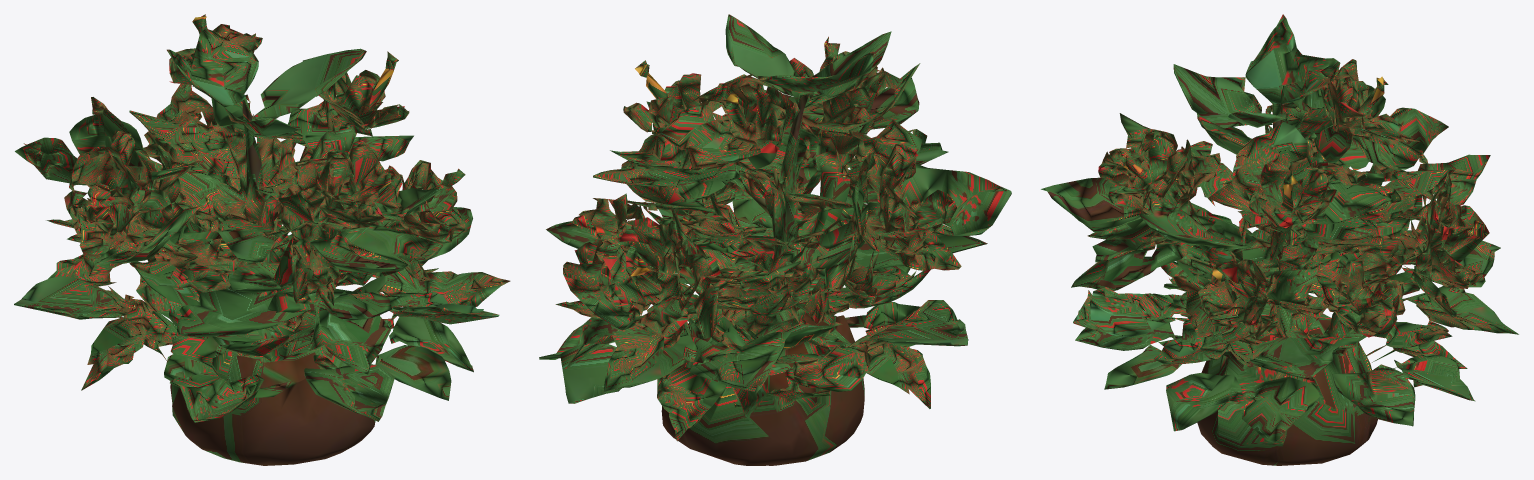
File: hibiscus.glb
The picture shows the model from 3 angles, left to right: view 1: azimuth 30°, elevation 25°; view 2: azimuth 150°, elevation 25°; view 3: azimuth 270°, elevation 25°; orthographic projection. The views are drawn at different scales.
Size of the model in its own units: 0.9617 by 0.8747 by 0.9961.
Materials: 1 (1 with a texture image).
